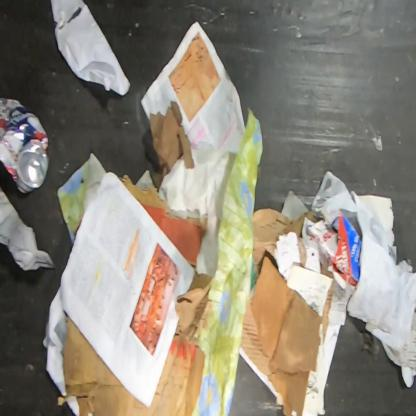cardboard: (63, 273, 215, 415), (250, 256, 336, 415), (118, 173, 208, 273), (251, 208, 324, 289), (240, 289, 272, 378)
metal: (0, 96, 51, 195)
